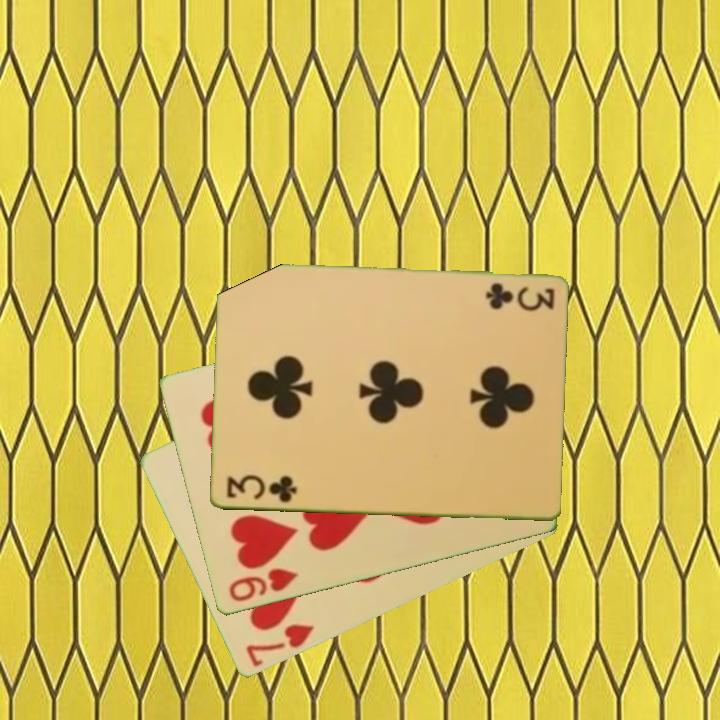3c: (222, 472, 299, 506), (481, 279, 557, 312)
7h: (242, 620, 317, 671)
9h: (225, 565, 300, 605)
